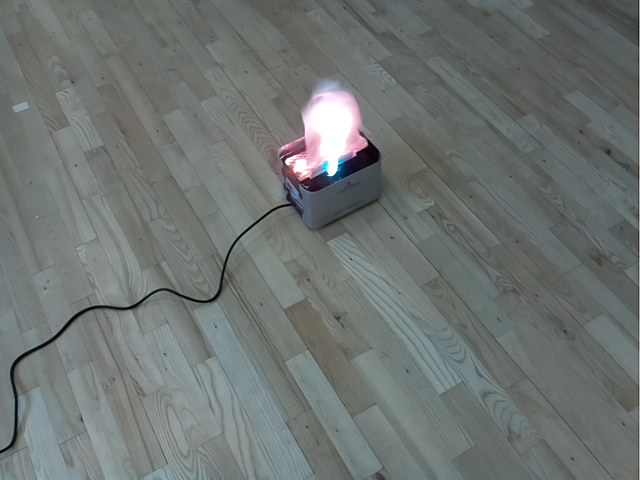fire: (298, 78, 369, 180)
